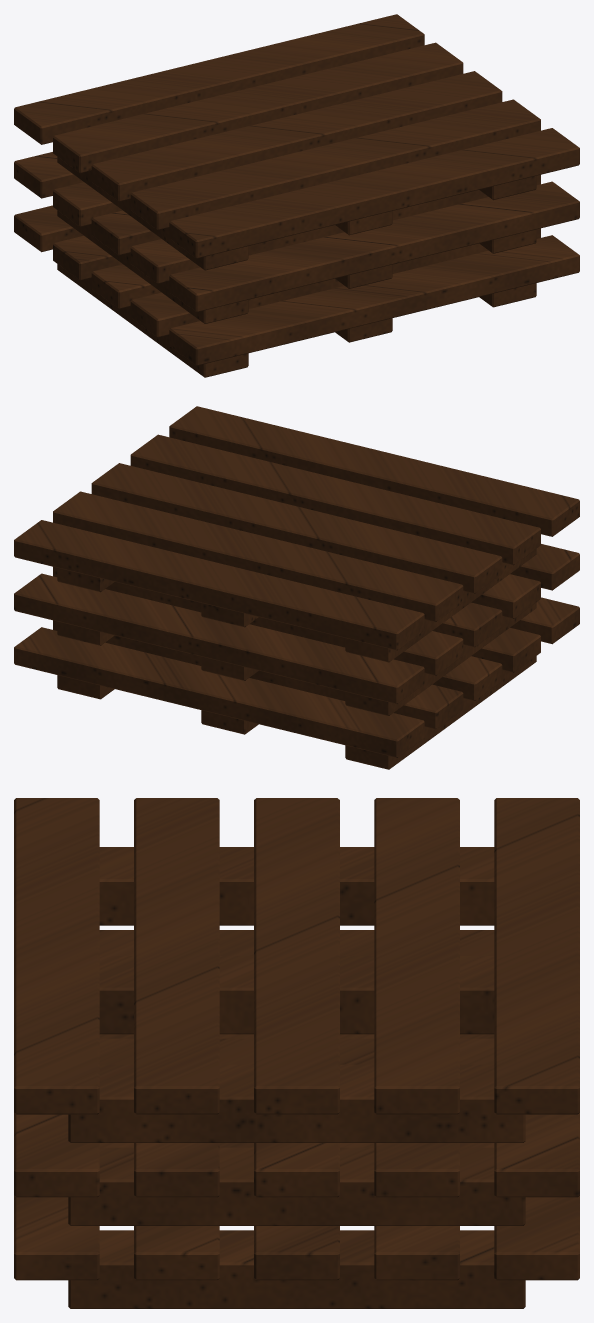
Rendered from PROP-7E4D927A8681_lod1.glb.
3 views of the same model, one above another, from view 1: azimuth 30°, elevation 25°; view 2: azimuth 150°, elevation 25°; view 3: azimuth 270°, elevation 25° (orthographic). The views are drawn at different scales.
Parts seen in each view (by area): view 1: pallet_deck.001, pallet_feet.001; view 2: pallet_deck.001, pallet_feet.001; view 3: pallet_deck.001, pallet_feet.001.
Part boxes in pixels (box(x1,y1,x2,y2)): pallet_deck.001: box(14, 14, 579, 365); pallet_feet.001: box(57, 157, 536, 377); pallet_deck.001: box(14, 406, 579, 757); pallet_feet.001: box(57, 549, 536, 769); pallet_deck.001: box(14, 798, 579, 1280); pallet_feet.001: box(68, 847, 525, 1308).
Bounding box in the file's own units: 1.2 × 0.4675 × 0.99.
1 material, 1 textured.
